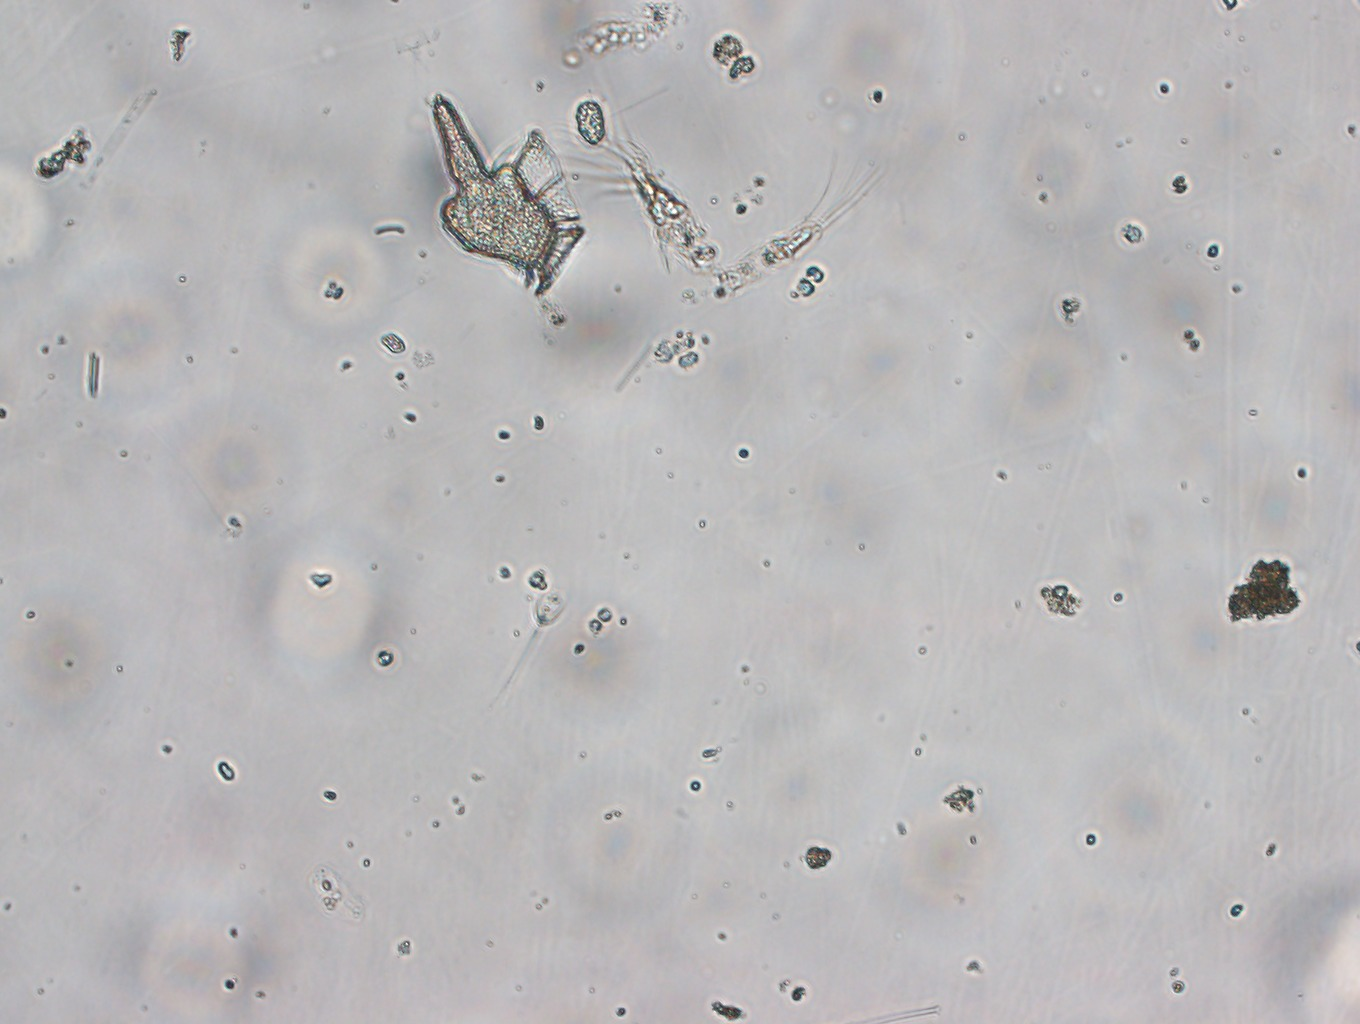dinophysis caudata: (409, 91, 601, 303)
